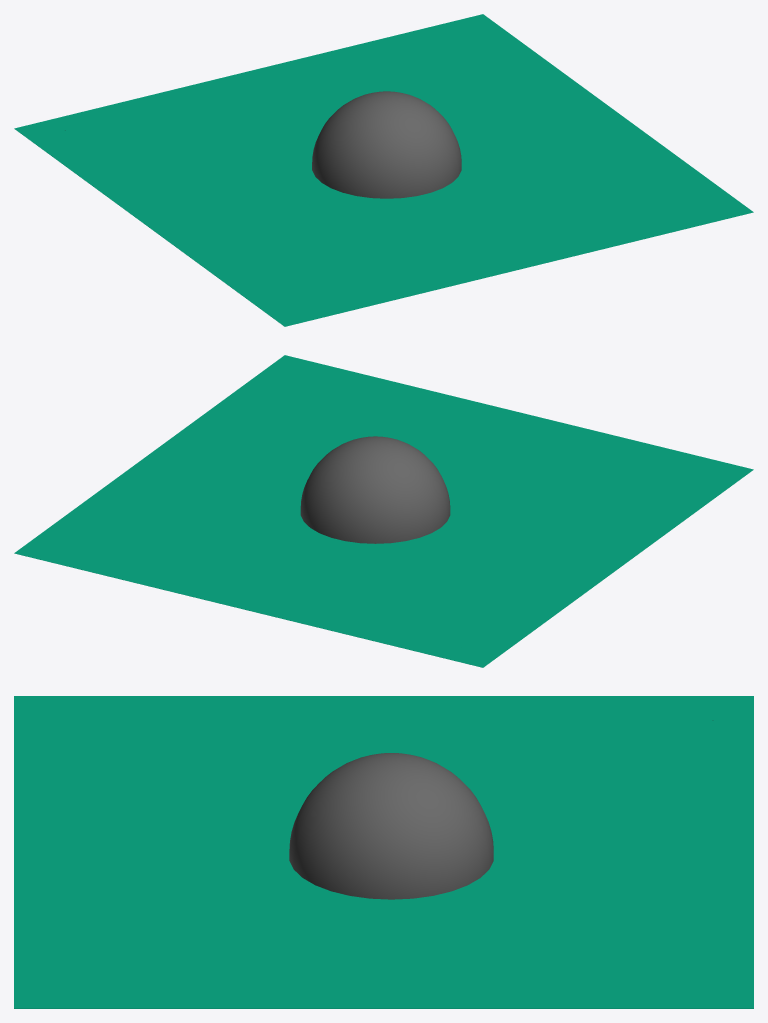
File: placeble_rev.glb
The picture shows the model from 3 angles, top to bottom: view 1: azimuth 30°, elevation 25°; view 2: azimuth 150°, elevation 25°; view 3: azimuth 270°, elevation 25°; orthographic projection. The views are drawn at different scales.
Parts seen in each view (by area): view 1: Cube, Sphere; view 2: Cube, Sphere; view 3: Cube, Sphere.
Boxes of the visible parts, x1,y1,x2,y2 form: Cube: (14, 14, 753, 326); Sphere: (312, 91, 461, 198); Cube: (14, 355, 753, 667); Sphere: (300, 436, 450, 543); Cube: (14, 696, 753, 1008); Sphere: (289, 753, 493, 899).
Bounding box in the file's own units: 18 × 5 × 18.
Materials: 2 (1 with a texture image).
